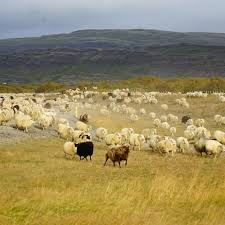sheep: (106, 143, 132, 169), (193, 136, 223, 157), (74, 141, 99, 163), (11, 106, 32, 132), (56, 122, 73, 141), (62, 140, 78, 159), (128, 132, 147, 148), (175, 135, 190, 154), (104, 130, 123, 145), (34, 110, 48, 130), (74, 120, 89, 132), (94, 127, 108, 139), (61, 101, 73, 115), (78, 111, 90, 124), (166, 112, 180, 123), (212, 113, 222, 128), (129, 111, 140, 123), (80, 99, 93, 109), (158, 120, 169, 131), (158, 101, 170, 111), (194, 117, 205, 127), (97, 107, 109, 116), (148, 96, 158, 105), (147, 111, 156, 119), (169, 126, 177, 135), (138, 107, 146, 115), (218, 94, 225, 103), (180, 99, 187, 108), (201, 91, 208, 97)
